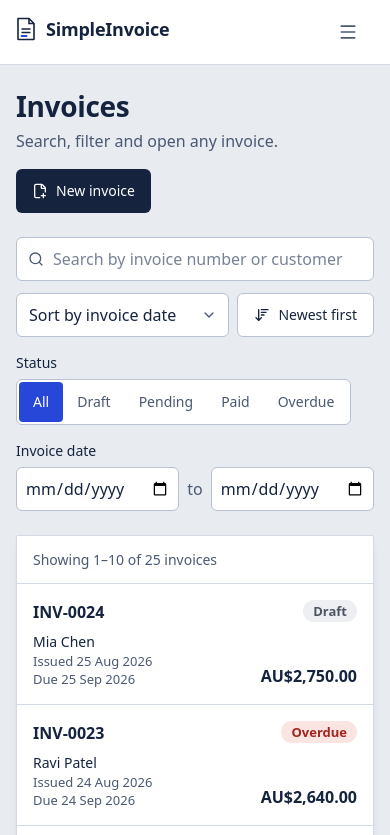
Scenario: app shell and routing › opens and closes the mobile menu
Expected: the heading "Invoices" is shown, [16,87,129,125]
Click the button named "Open menu" at (348, 32), box [322,10,374,54]
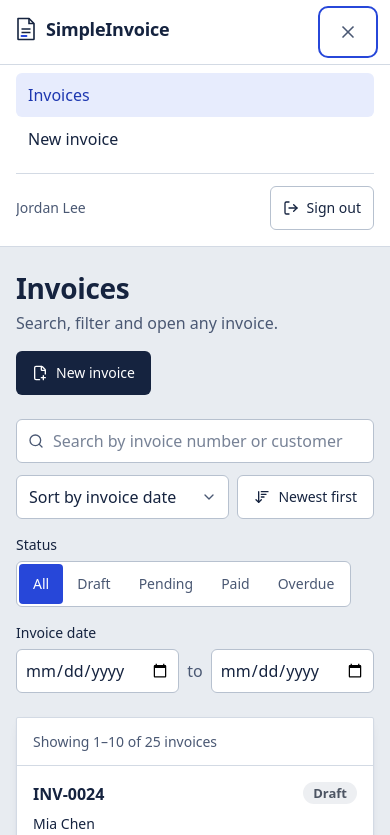
Expected: the button named "Close menu" is expanded, [322,10,374,54]
Expected: the number of navigation bars "Main" is 2
Press Escape
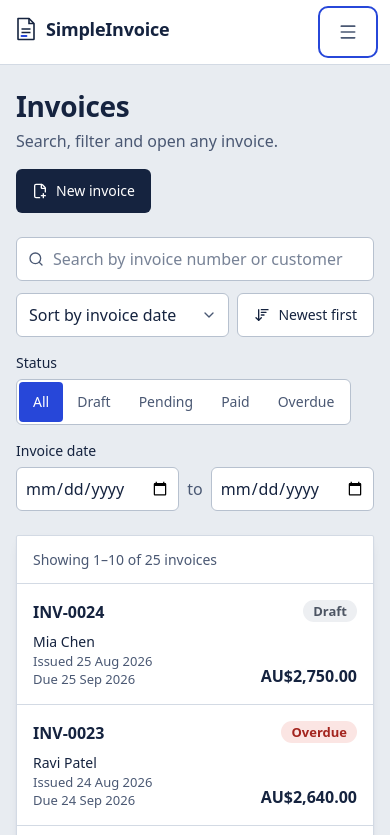
Expected: the button named "Open menu" is collapsed, [322,10,374,54]
